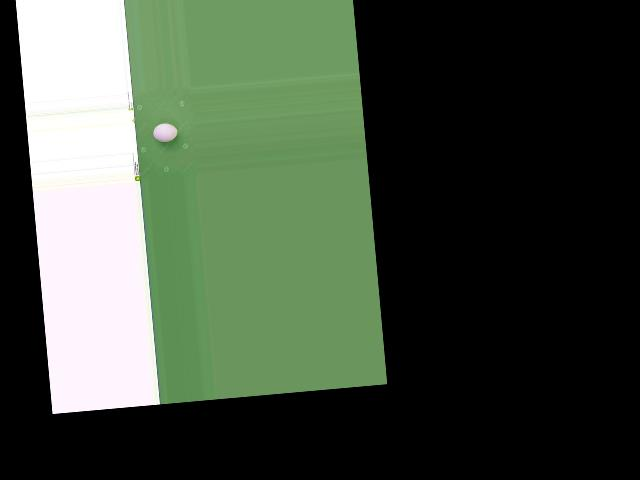egg: (152, 122, 177, 142)
